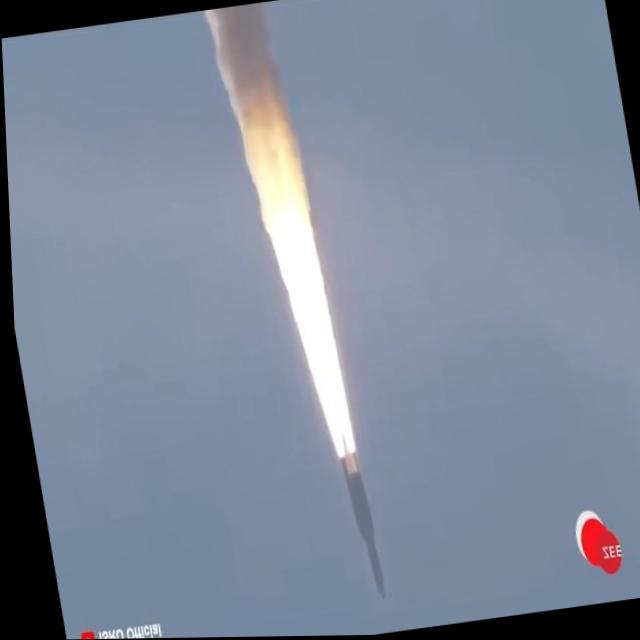missile: (325, 451, 384, 604)
